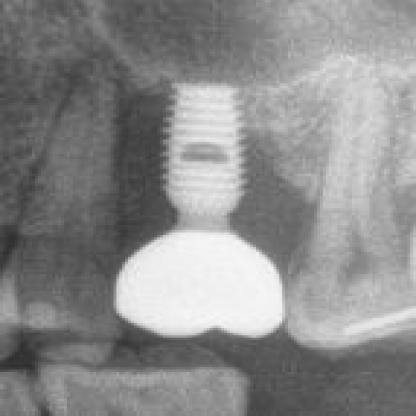Bicon: (148, 74, 264, 200)
